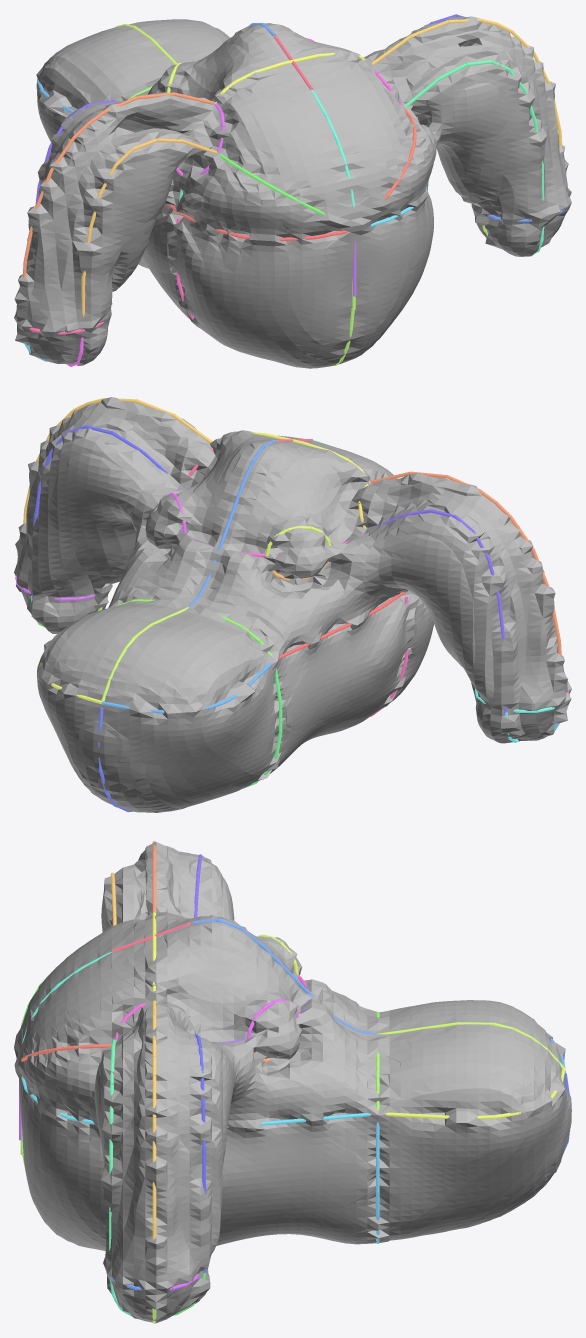
Rendered from scaffolds3d_dog.gltf.
3 renders of one model, top to bottom at view 1: azimuth 30°, elevation 25°; view 2: azimuth 150°, elevation 25°; view 3: azimuth 270°, elevation 25°, orthographic. The views are drawn at different scales.
Size of the model in its own units: 0.7349 by 0.3768 by 0.5963.
